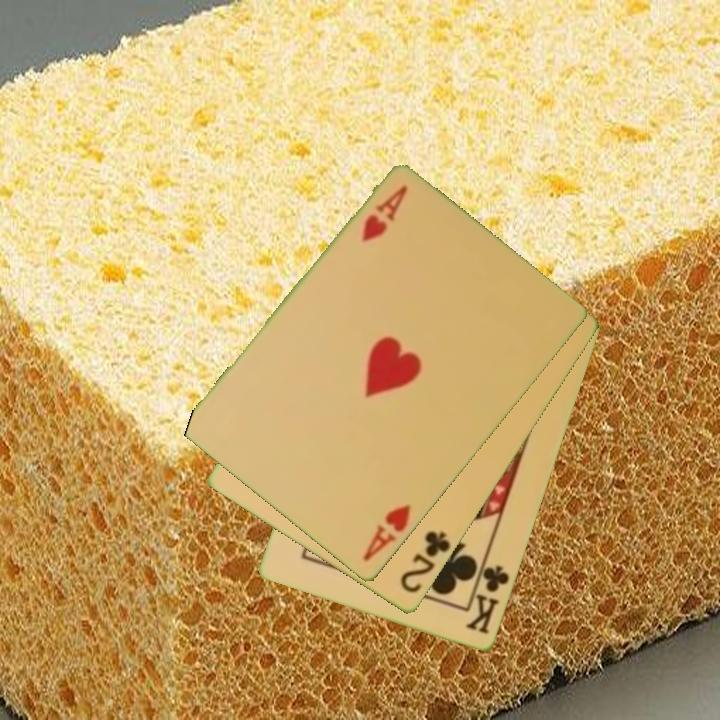2c: (396, 527, 454, 597)
Ah: (359, 501, 414, 565), (358, 183, 411, 246)
Kc: (463, 555, 513, 638)
